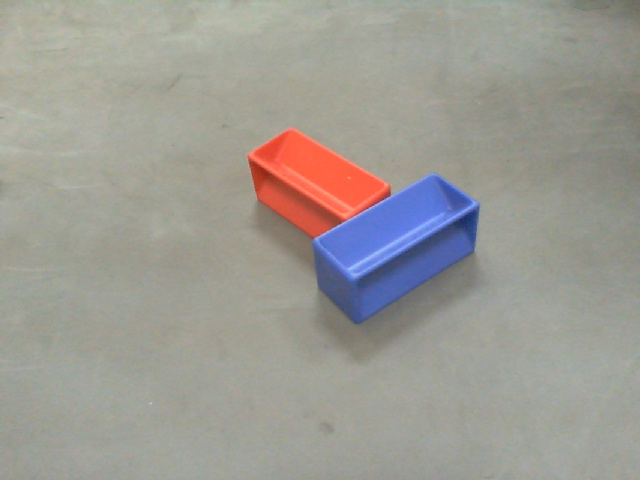BlueSample: (304, 168, 480, 323)
RedSample: (247, 126, 394, 243)
